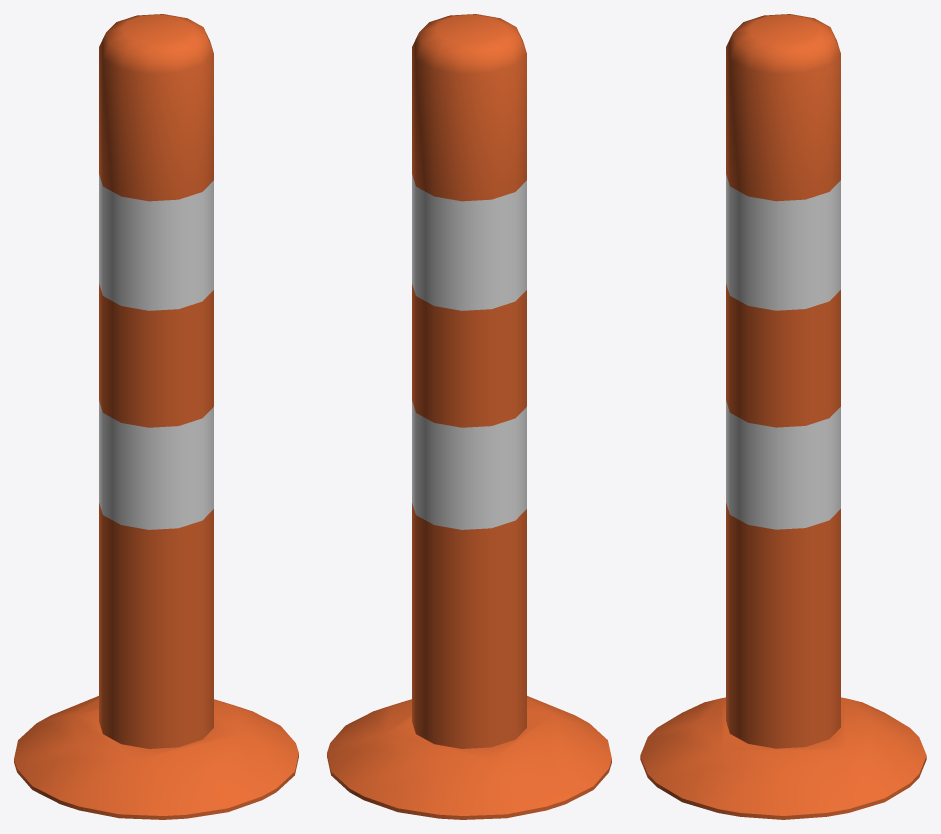
Rendered from Traffic_Cone_Stripes_A.fbx.
3 views of the same model, side by side, from view 1: azimuth 30°, elevation 25°; view 2: azimuth 150°, elevation 25°; view 3: azimuth 270°, elevation 25° (orthographic).
Visible parts, largest first — view 1: Traffic Cone Stripes A; view 2: Traffic Cone Stripes A; view 3: Traffic Cone Stripes A.
Boxes of the visible parts, <box> form: Traffic Cone Stripes A: <box>14,14,298,819</box>; Traffic Cone Stripes A: <box>327,14,611,819</box>; Traffic Cone Stripes A: <box>640,14,926,819</box>.
Bounding box in the file's own units: 3085 × 8677 × 3085.
